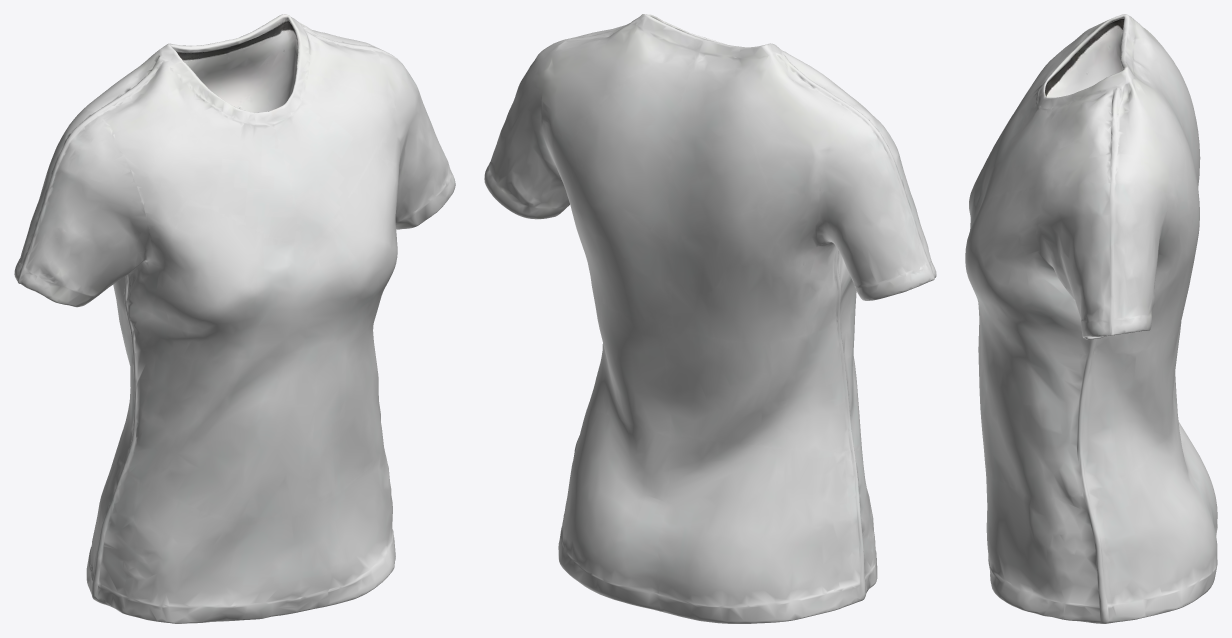
3 renders of one model, left to right at view 1: azimuth 30°, elevation 25°; view 2: azimuth 150°, elevation 25°; view 3: azimuth 270°, elevation 25°, orthographic. The views are drawn at different scales.
Parts seen in each view (by area): view 1: tripo_node_28176a52-7eeb-4fd9-8a7a-dfd9296e1b89; view 2: tripo_node_28176a52-7eeb-4fd9-8a7a-dfd9296e1b89; view 3: tripo_node_28176a52-7eeb-4fd9-8a7a-dfd9296e1b89.
Part boxes in pixels (x1,y1,x2,y2): tripo_node_28176a52-7eeb-4fd9-8a7a-dfd9296e1b89: (14,14,455,623); tripo_node_28176a52-7eeb-4fd9-8a7a-dfd9296e1b89: (484,14,936,623); tripo_node_28176a52-7eeb-4fd9-8a7a-dfd9296e1b89: (965,14,1217,623).
Size of the model in its own units: 0.8487 by 0.9999 by 0.4389.
Materials: 1 (1 with a texture image).
